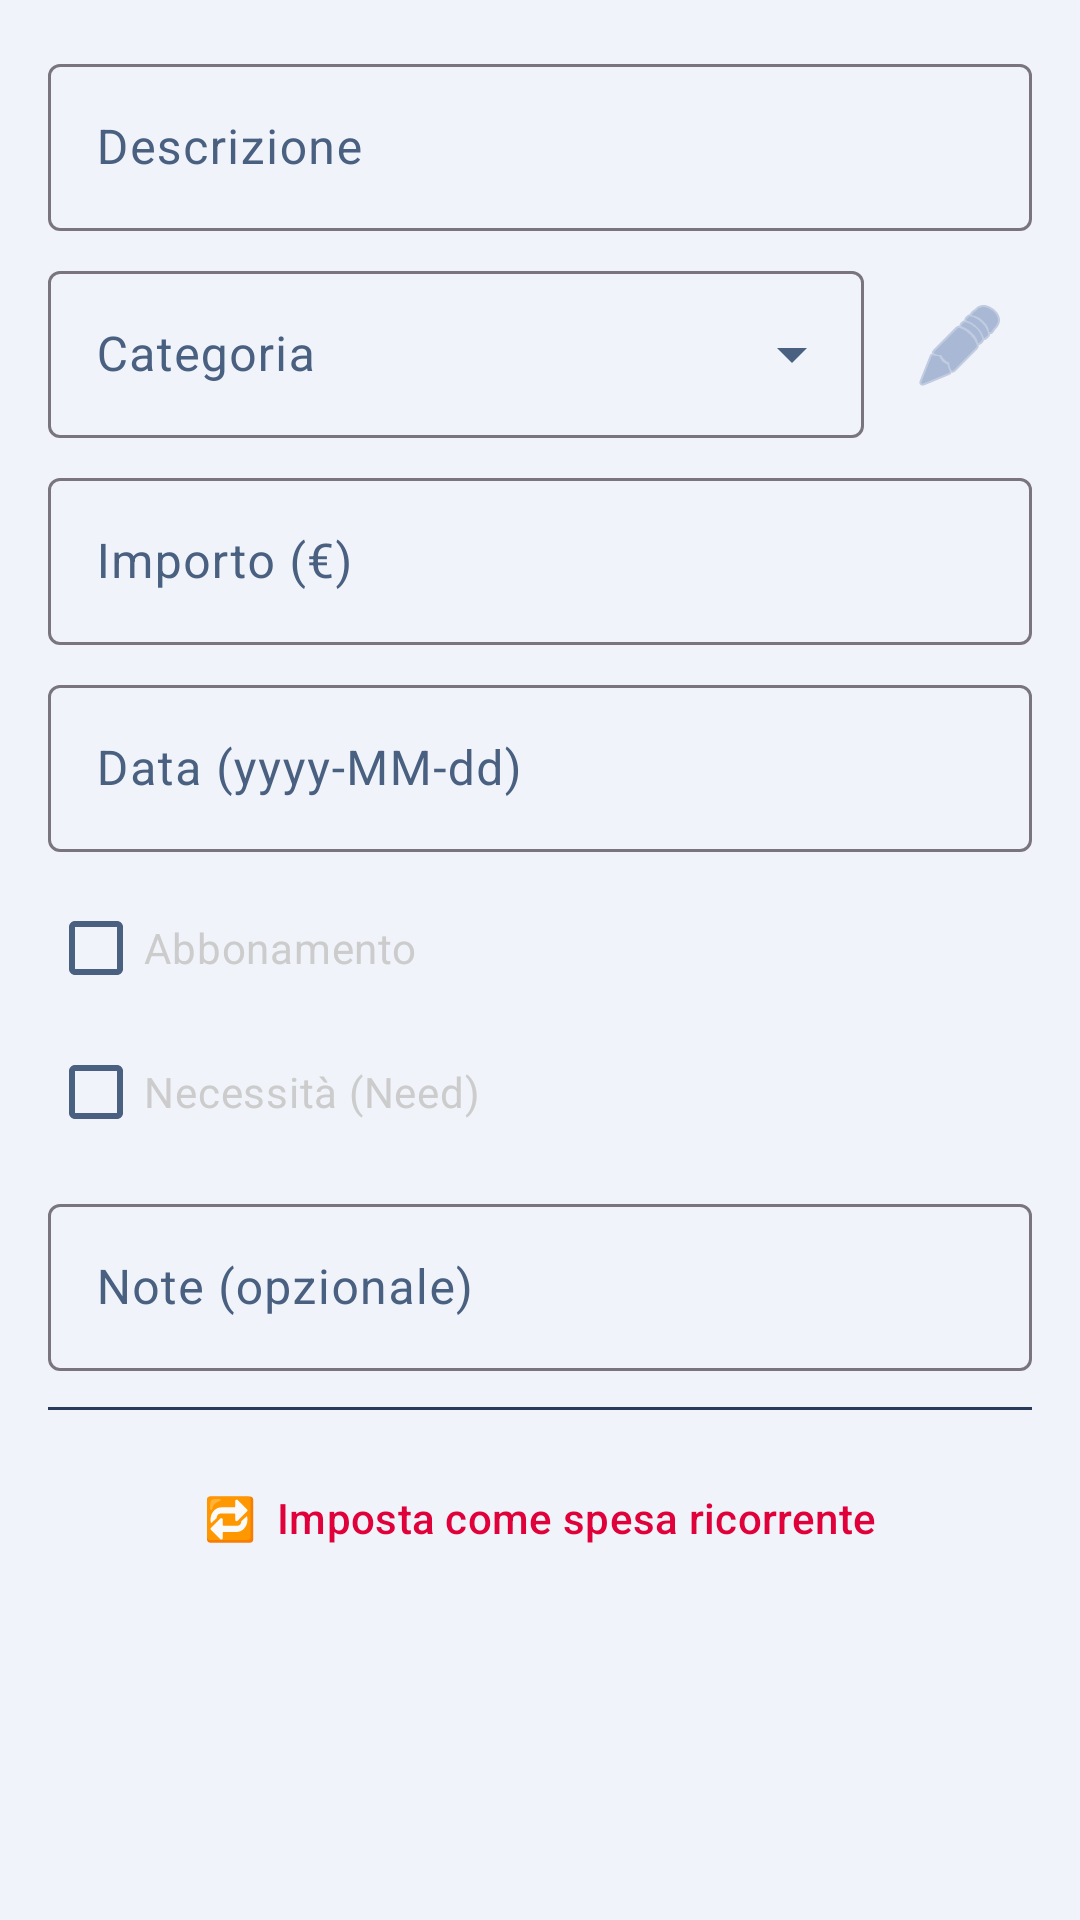

Icon bounding boxes for this 1080px×1920px phone screenshot, format bbox=(x1, y1, x2, y2):
Gestisci categorie: bbox=(919, 305, 1000, 386)
